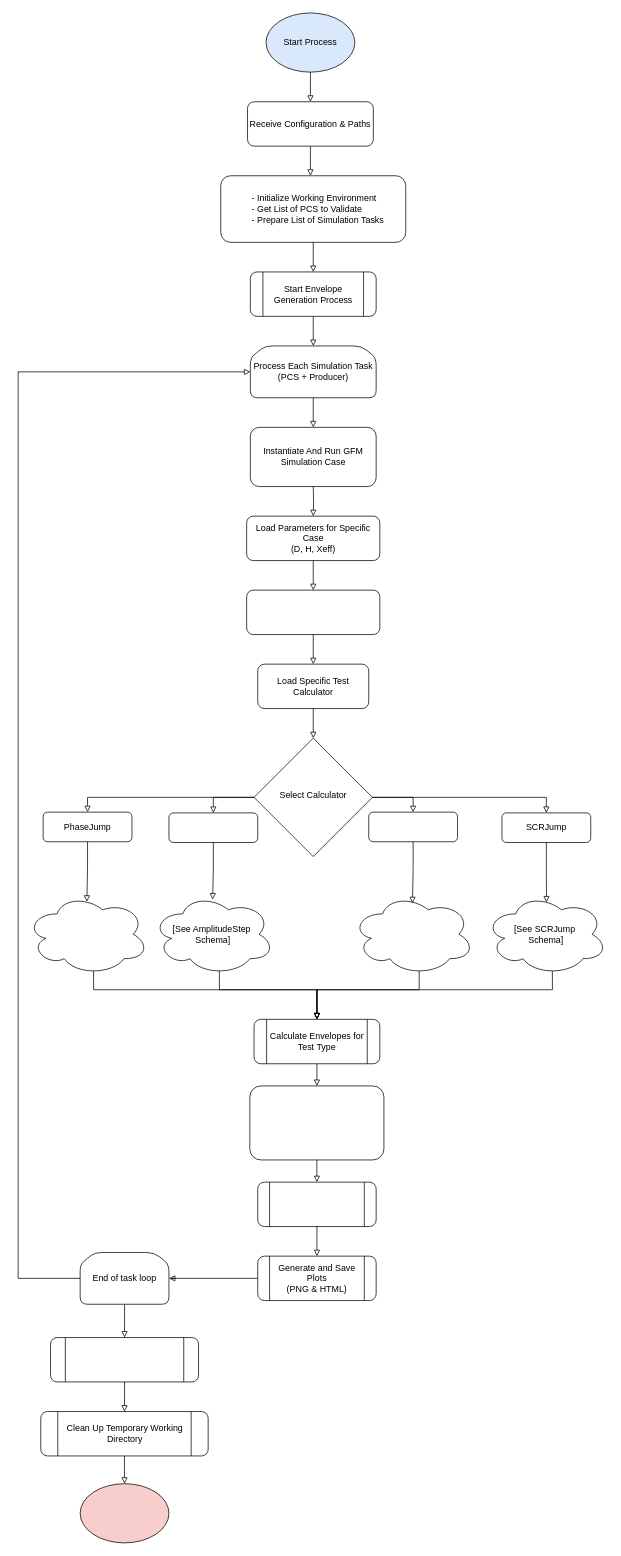
Some shapes in this 621 by 1556 pixel diagram are drawn without their labels. The shapes that lost their labels are listed below. From the top down, each one's centre as x and y in pixels, then its label:
At (313,612): "Determine Which Test Type to Run".
At (213,827): "AmplitudeStep".
At (413,826): "RoCoF".
At (87,934): "[See PhaseJump Schema]".
At (412,934): "[See RoCoF Schema]".
At (316,1122): "Receive Results: - magnitude_name - pcc_signal - upper_envelope - lower_envelope".
At (316,1204): "Save Results to CSV File".
At (124,1359): "Copy Final Results to Output Directory".
At (124,1513): "End".
